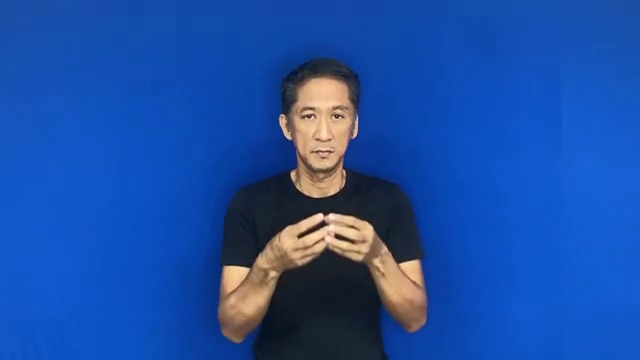egg: (252, 203, 386, 276)
